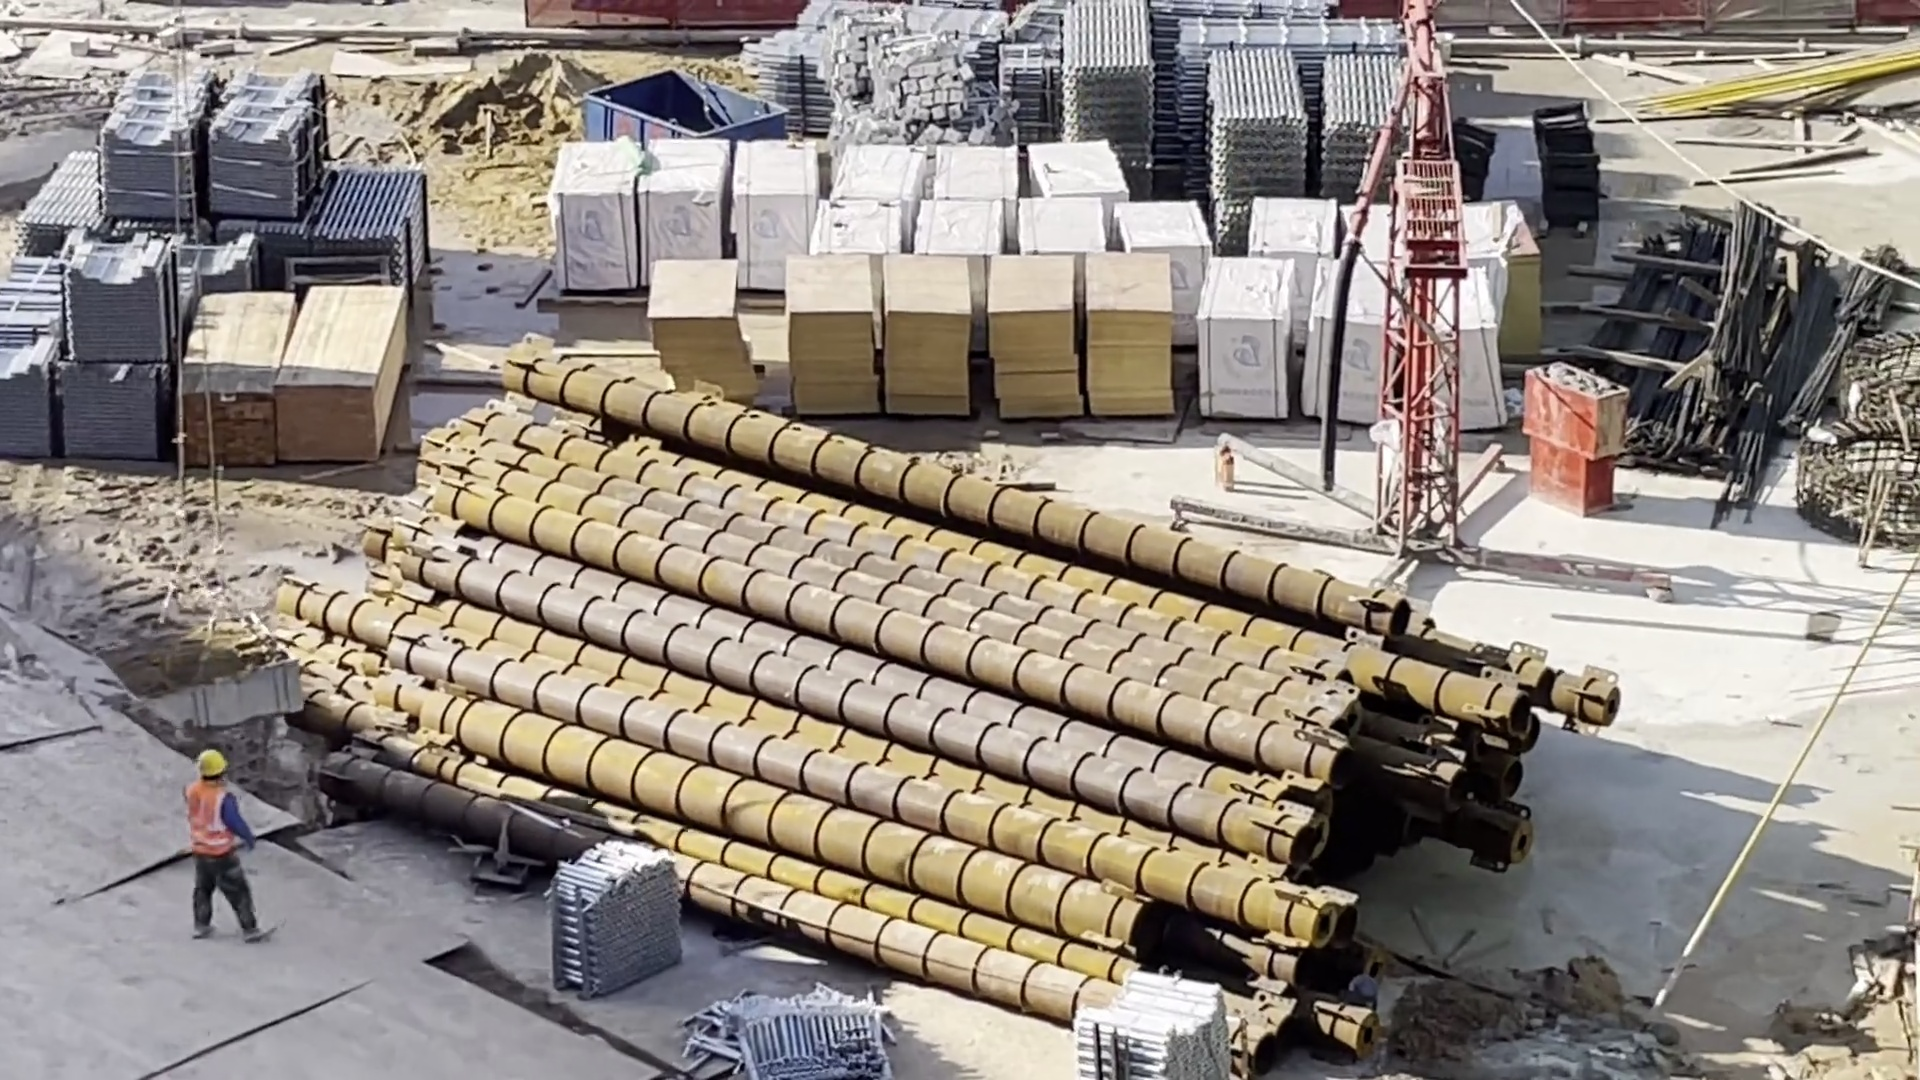board: (286, 288, 387, 456), (792, 278, 883, 439), (895, 269, 971, 429), (996, 260, 1075, 407), (1096, 268, 1173, 417), (659, 280, 752, 395)
fence: (535, 1, 805, 26)
helmet: (197, 749, 229, 777)
hopper: (118, 626, 305, 714), (591, 68, 764, 144)
person: (179, 743, 267, 941)
rebar: (1707, 275, 1816, 511), (1674, 208, 1783, 392), (1787, 258, 1902, 418), (1623, 239, 1706, 414), (1557, 260, 1658, 389)
scaffold: (547, 861, 687, 979), (710, 1003, 883, 1073), (1317, 73, 1393, 229), (1081, 991, 1215, 1080), (1068, 21, 1159, 140), (1215, 57, 1296, 179), (1181, 20, 1412, 53), (321, 185, 416, 254), (29, 167, 109, 245), (993, 53, 1057, 131)
vest: (184, 785, 235, 852)
wood: (177, 293, 275, 483)
